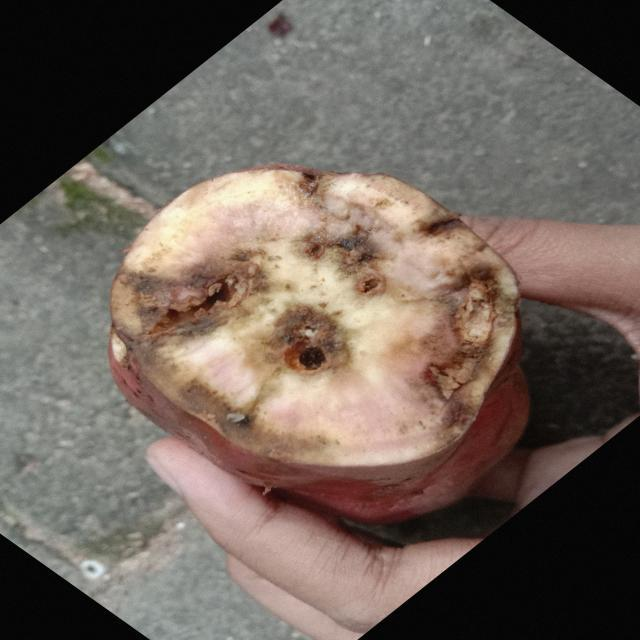Sick Sweet Potato_Tuber Rot: (112, 165, 518, 465)
